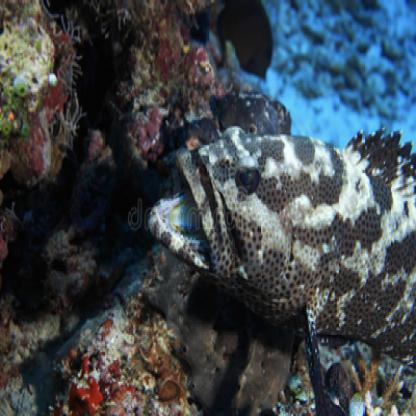grouper: (145, 121, 416, 416)
